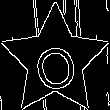O_N: (28, 30, 82, 92)
